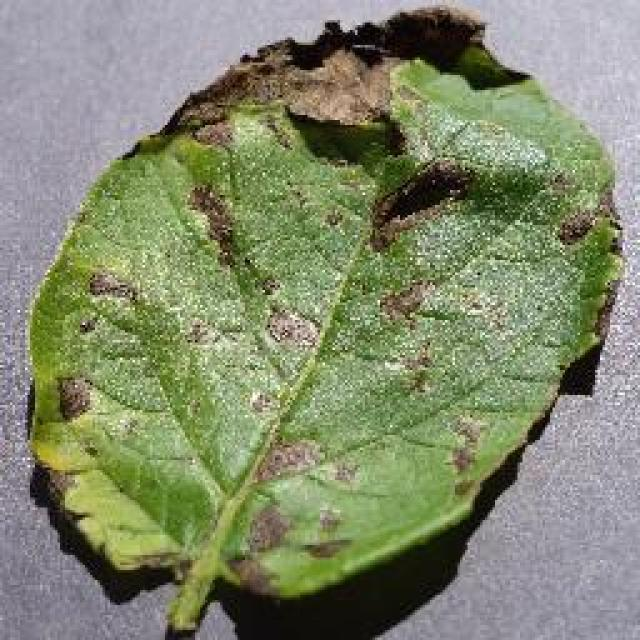early_blight: (20, 0, 628, 635)
